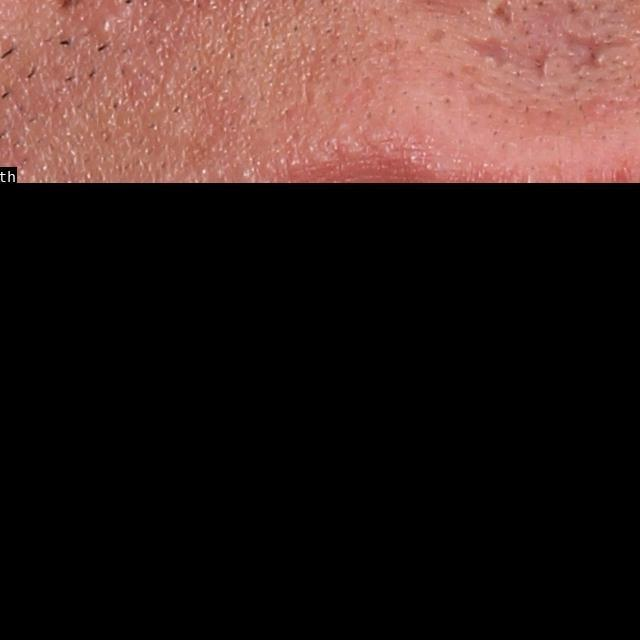atrophic_scar: (561, 29, 640, 69), (463, 34, 512, 70), (533, 40, 553, 77), (426, 26, 447, 46)
comedo: (89, 11, 122, 43)
